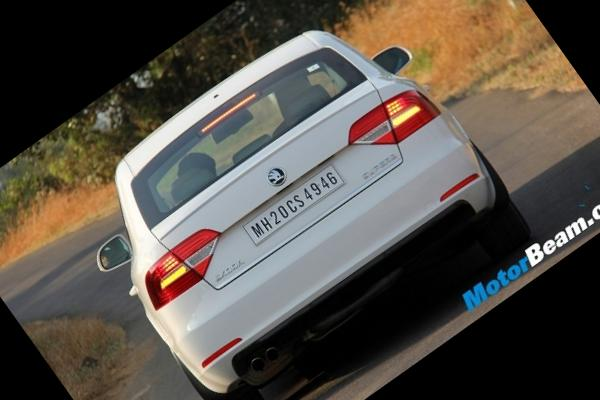plate: (232, 150, 358, 258)
